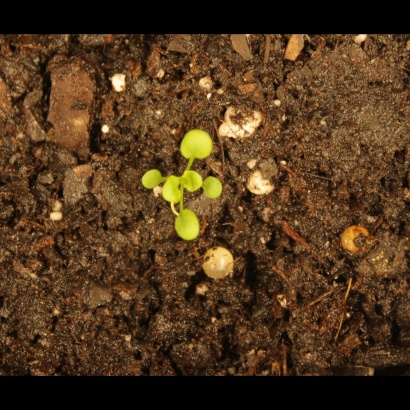leaf: (171, 123, 219, 163), (167, 208, 203, 245), (201, 169, 233, 210), (130, 163, 163, 192), (160, 176, 186, 209), (177, 169, 204, 193)
